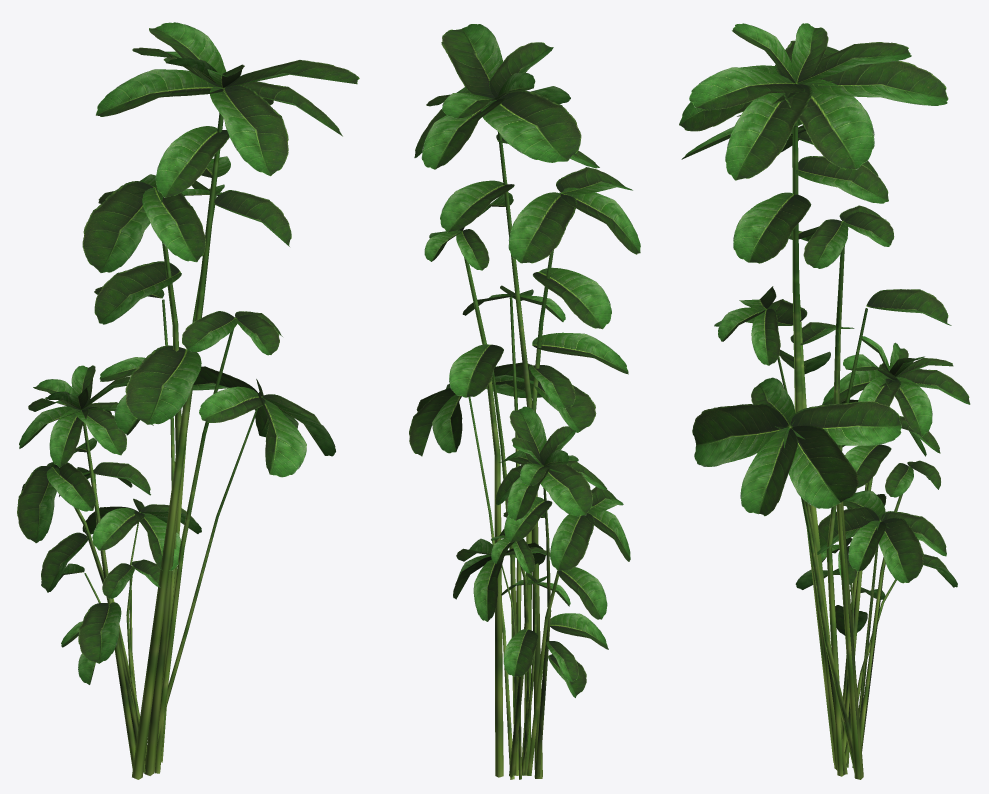
The model's file is m_grass03.fbx.
3 renders of one model, left to right at view 1: azimuth 30°, elevation 25°; view 2: azimuth 150°, elevation 25°; view 3: azimuth 270°, elevation 25°, orthographic. The views are drawn at different scales.
Parts seen in each view (by area): view 1: m_grass03; view 2: m_grass03; view 3: m_grass03.
Part boxes in pixels (x1,y1,x2,y2): m_grass03: (17, 22, 359, 779); m_grass03: (409, 24, 640, 779); m_grass03: (679, 23, 970, 779).
Size of the model in its own units: 1.88 by 4.64 by 1.66.
